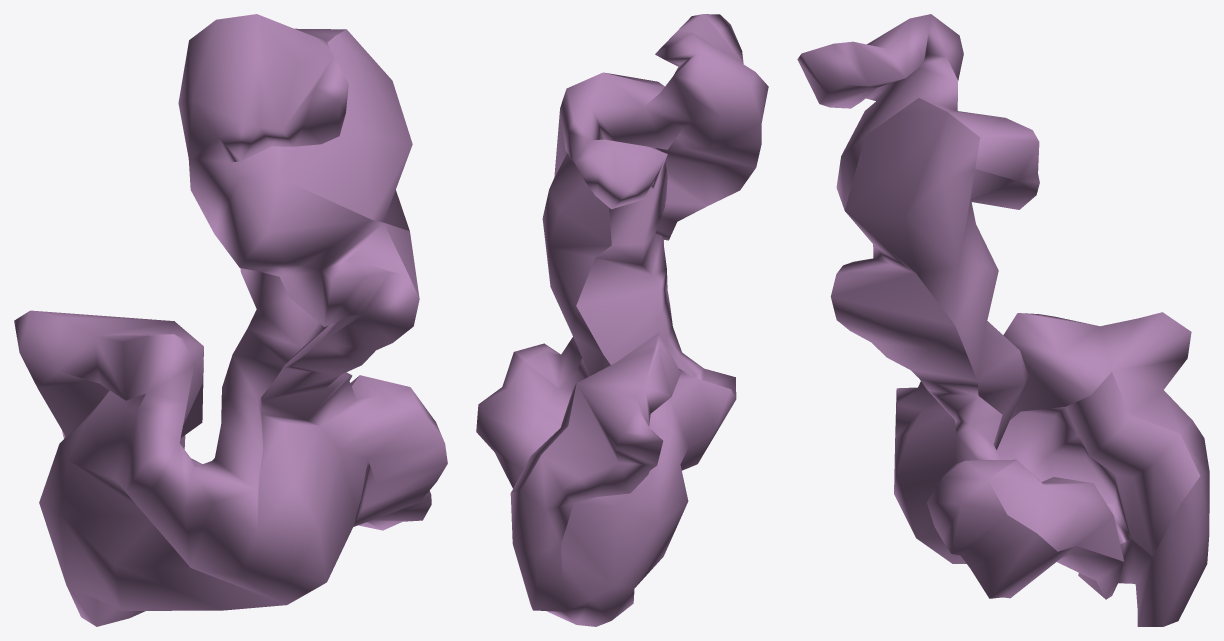
The picture shows the model from 3 angles, left to right: view 1: azimuth 30°, elevation 25°; view 2: azimuth 150°, elevation 25°; view 3: azimuth 270°, elevation 25°; orthographic projection. The views are drawn at different scales.
Parts seen in each view (by area): view 1: 右侧额下沟; view 2: 右侧额下沟; view 3: 右侧额下沟.
Boxes of the visible parts, x1,y1,x2,y2 form: 右侧额下沟: [14, 14, 447, 626]; 右侧额下沟: [476, 14, 768, 626]; 右侧额下沟: [797, 14, 1209, 626].
Bounding box in the file's own units: 0.0349 × 0.0751 × 0.0475.
